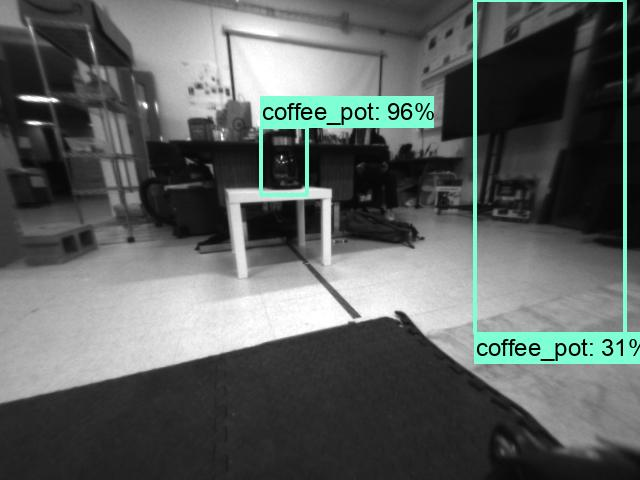coffee_pot: (258, 131, 307, 193)
